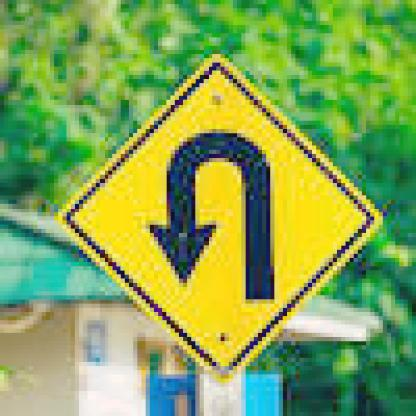U-turn: (65, 52, 381, 375)
